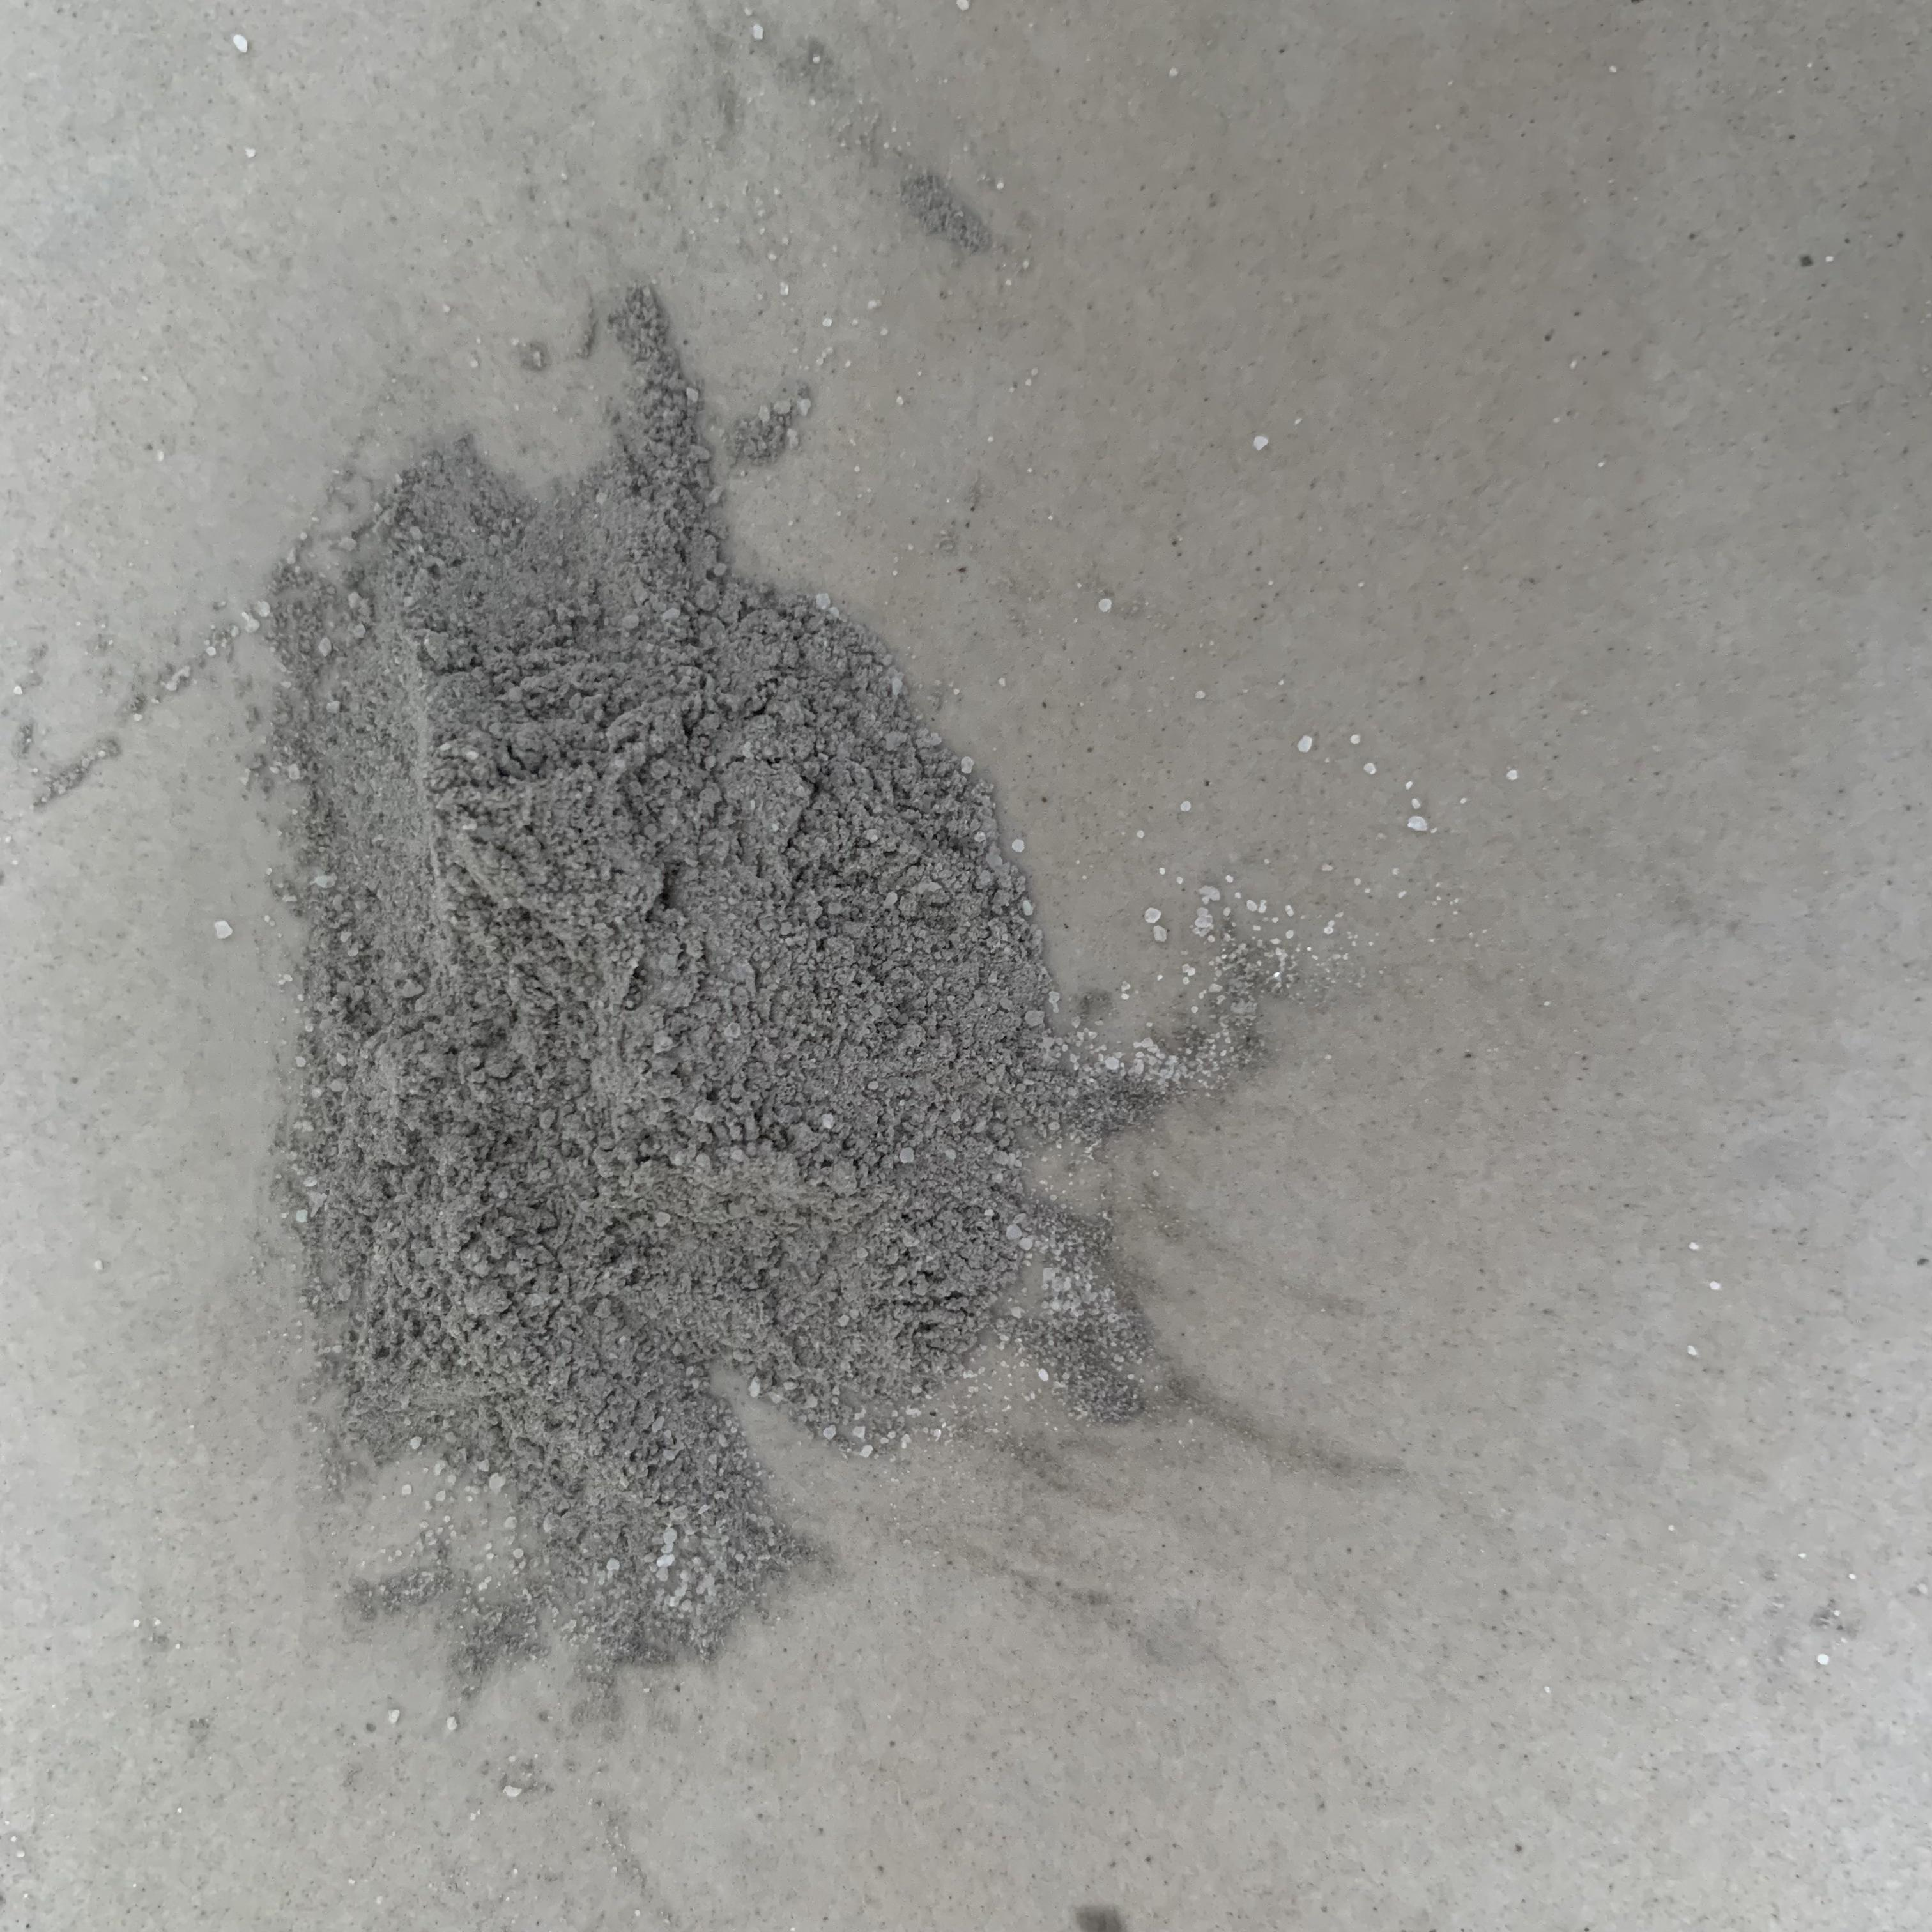ash pile: (0, 283, 1414, 1932), (902, 163, 991, 258)
